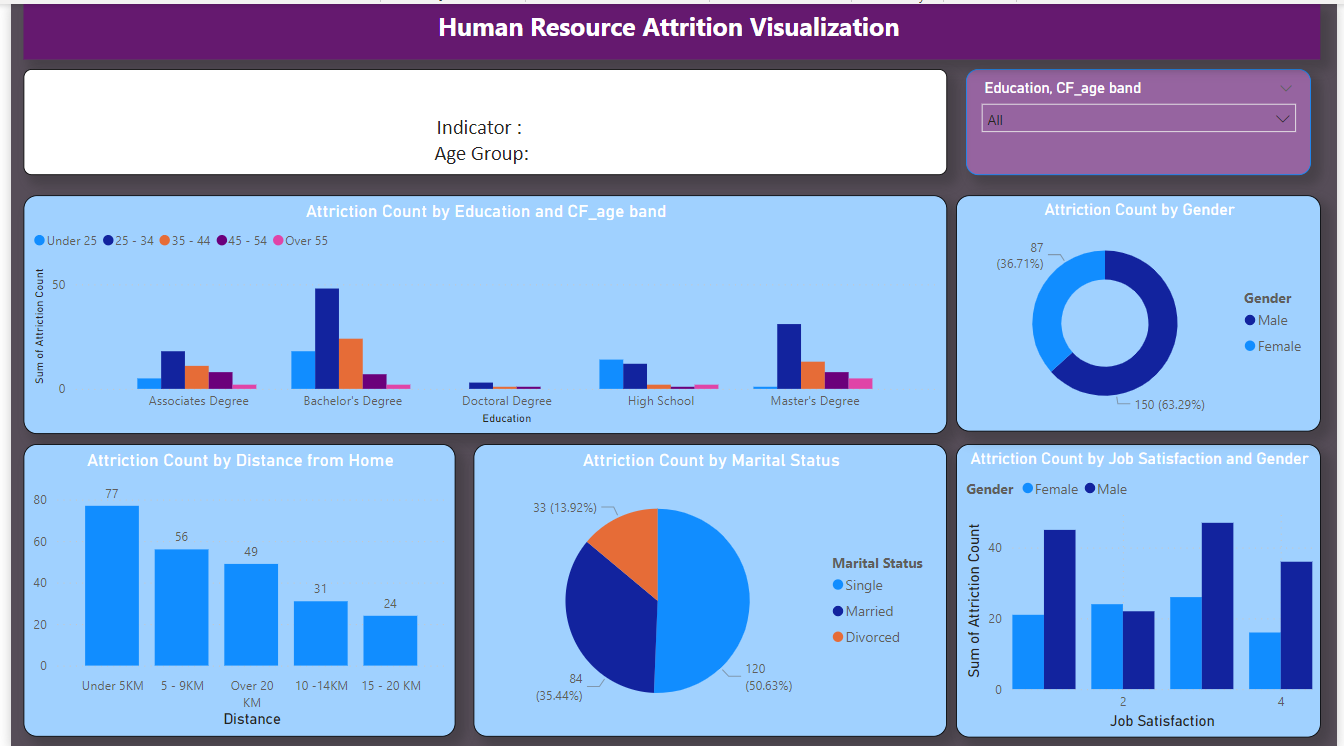

The page's visual inventory and layout, read from the dashboard file:
{"tool":"powerbi","page":{"name":"Page 3","canvas":[1280,720],"ordinal":1},"visuals":[{"type":"clusteredColumnChart","title":"Attriction Count by Education and CF_age band","fields":{"Category":["HR data.Education"],"Y":["Sum(HR data.Attriction Count)"],"Series":["HR data.CF_age band"]},"box":[12,185,891,230],"z":0},{"type":"slicer","fields":{"Values":["HR data.Education","HR data.CF_age band"]},"box":[921.4,62.7,332.9,102.5],"z":1000},{"type":"pieChart","title":"Attriction Count by Marital Status","fields":{"Category":["HR data.Marital Status"],"Y":["Sum(HR data.Attriction Count)"]},"box":[446.2,424.5,457.1,282.2],"z":2000},{"type":"clusteredColumnChart","title":"Attriction Count by Distance from Home","fields":{"Y":["Sum(HR data.Attriction Count)"],"Category":["HR data.Distance"]},"box":[12,424,417,282],"z":3000},{"type":"clusteredColumnChart","title":"Attriction Count by Job Satisfaction and Gender","fields":{"Y":["Sum(HR data.Attriction Count)"],"Category":["HR data.Job Satisfaction"],"Series":["HR data.Gender"]},"box":[911.8,424.5,352.2,283.4],"z":4000},{"type":"donutChart","title":"Attriction Count by Gender","fields":{"Category":["HR data.Gender"],"Y":["Sum(HR data.Attriction Count)"]},"box":[911.8,184.5,352.2,227.9],"z":5000},{"type":"textbox","box":[12.3,0,1251.3,53.2],"z":8250},{"type":"card","fields":{"Values":["HR data.DynamicTitlesIndicator"]},"box":[12.1,62.7,891.3,102.5],"z":8750}]}

Visuals, with their boxes in screenshot pixels (x1, y1, x2, y2), scaled from the page's 1280x720 canvas onto the 1344x746 screenshot:
"Attriction Count by Education and CF_age band" clusteredColumnChart: region(13, 192, 948, 430)
slicer - HR data.Education x HR data.CF_age band: region(967, 65, 1317, 171)
"Attriction Count by Marital Status" pieChart: region(469, 440, 948, 732)
"Attriction Count by Distance from Home" clusteredColumnChart: region(13, 439, 450, 731)
"Attriction Count by Job Satisfaction and Gender" clusteredColumnChart: region(957, 440, 1327, 733)
"Attriction Count by Gender" donutChart: region(957, 191, 1327, 427)
textbox: region(13, 0, 1327, 55)
card - HR data.DynamicTitlesIndicator: region(13, 65, 949, 171)
